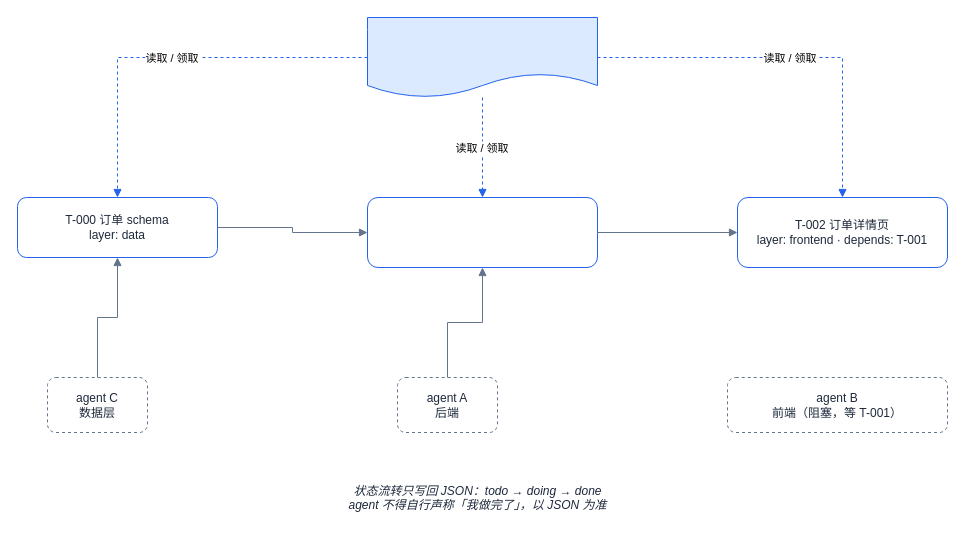
Image size: 965x550. Some labels were removed from this diagram. The box of each missing label's shape, as (x1, y1, x2, y2) in pixels:
T-001 订单详情接口 layer: backend · depends: T-000: (366, 196, 598, 268)
任务图 JSON（唯一事实源） 所有 agent 只信这一份: (366, 16, 598, 98)
